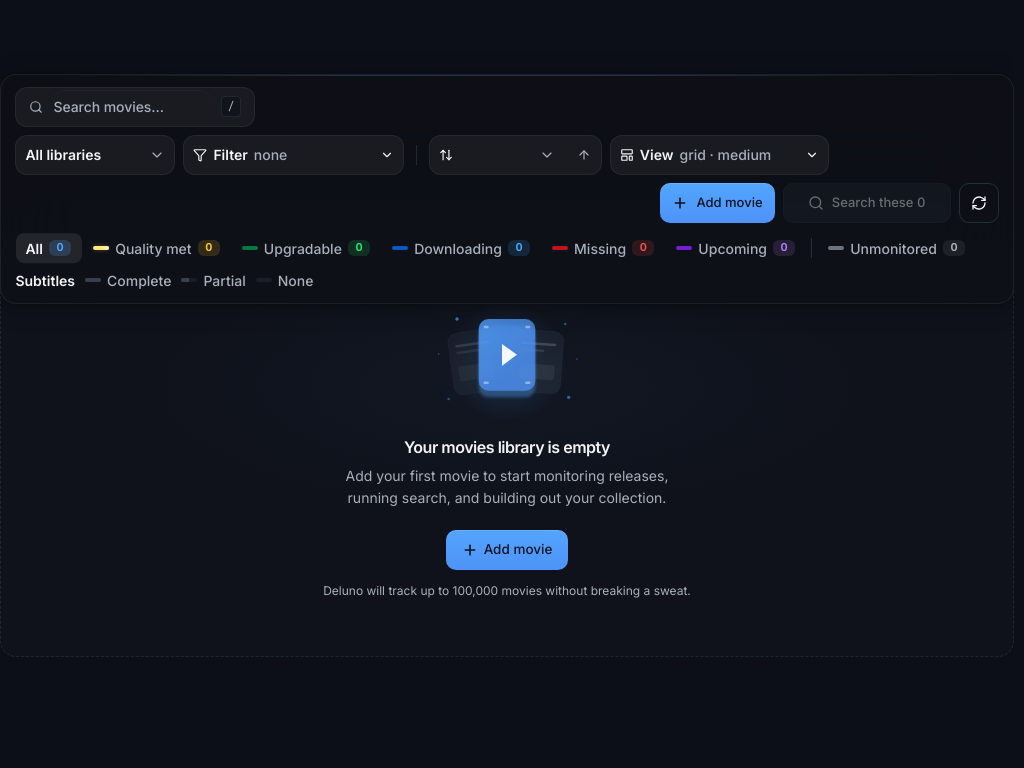
when title matching is unavailable › the dialog says Manual entry and that matching is temporarily unavailable, searches nothing, and still adds by hand
The image size is (1024, 768).
Expected: the button "Search these 0" is shown, [783,183,951,223]
Step 1. Click the 1st button "Add movie" → {"x": 718, "y": 203}, box [660,183,775,223]
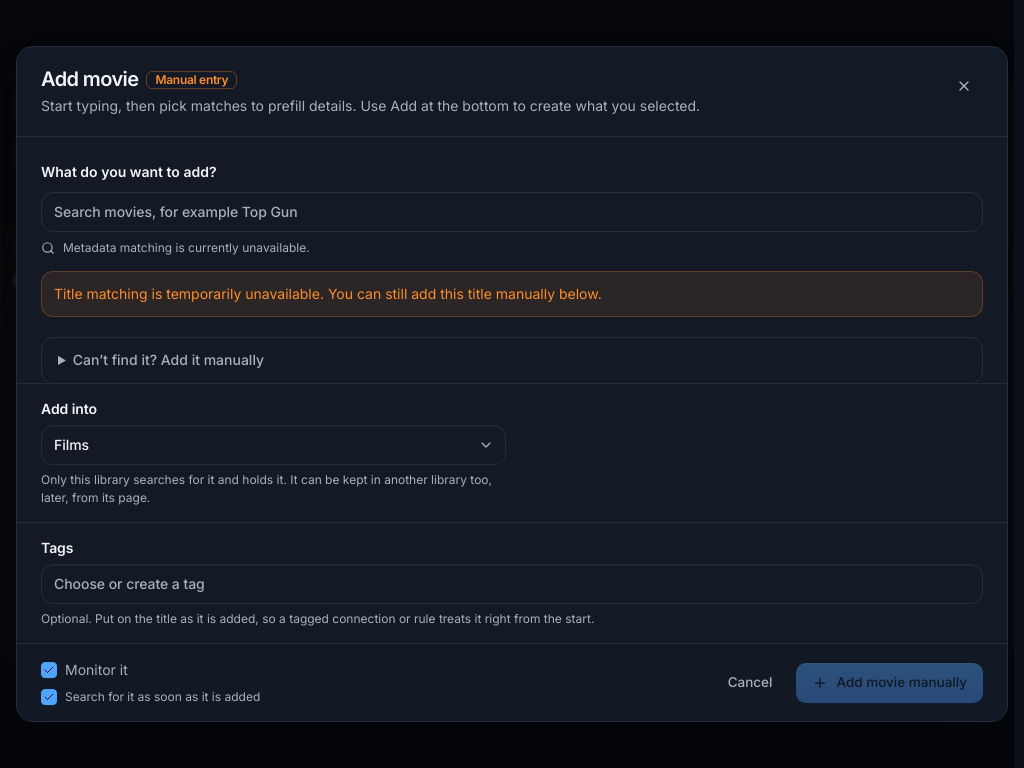
Expected: the text "Manual entry" is shown, [146,71,237,89]
Expected: the text "Metadata matching is currently unavailable." is shown, [41,240,310,256]
Expected: the text "Title matching is temporarily unavailable. You can still add this title manually below." is shown, [54,285,602,302]
Step 2. Type "Home Movie" into the field labelled "What do you want to add?" → {"x": 512, "y": 212}, box [41,192,983,232]
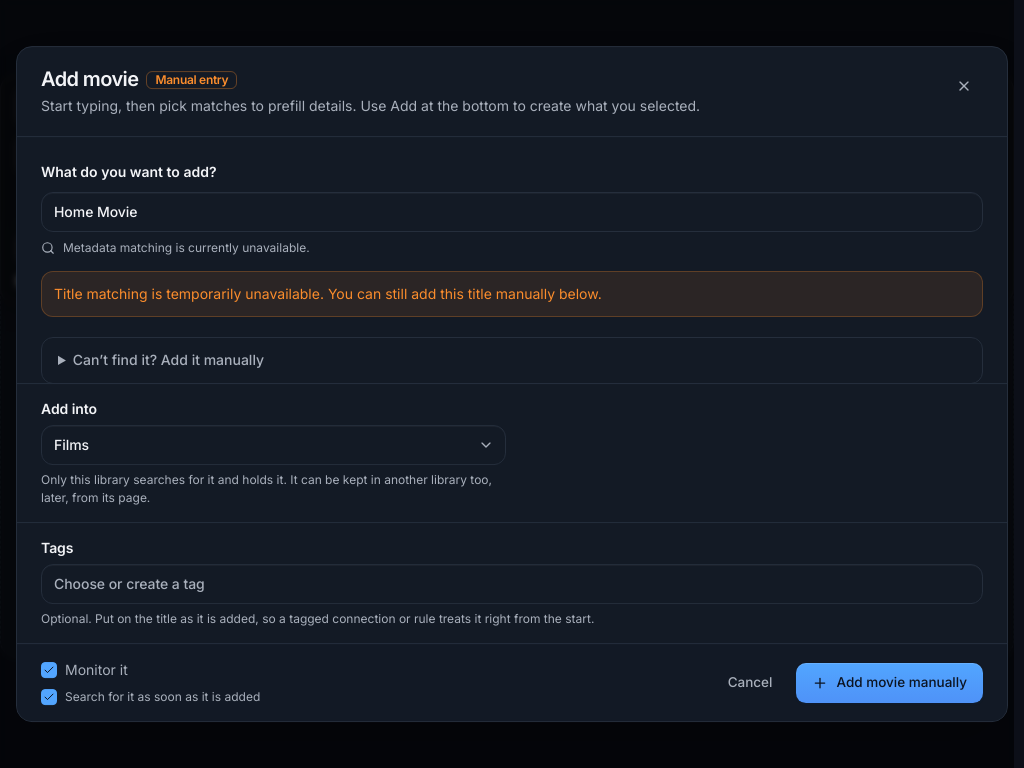
Expected: the button "Add movie manually" is enabled, [796,663,983,703]
